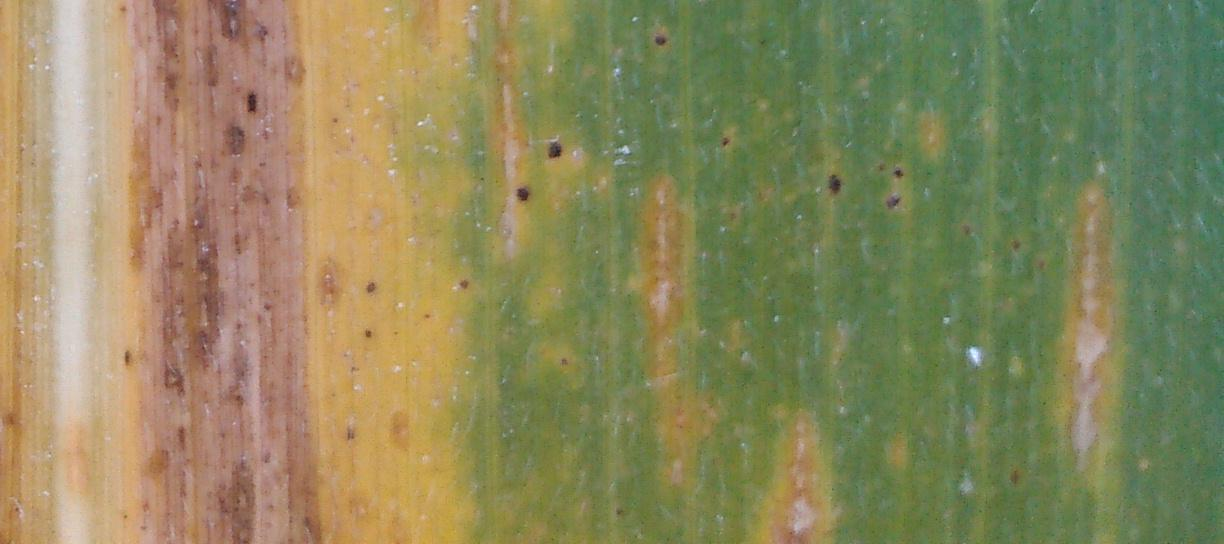tarspot: (823, 167, 843, 197), (243, 88, 260, 119), (881, 193, 903, 214), (545, 139, 564, 162), (361, 278, 381, 299), (338, 423, 359, 442), (119, 346, 138, 367), (512, 184, 531, 201), (652, 31, 671, 47), (555, 353, 571, 370), (958, 219, 973, 237), (455, 274, 473, 289), (361, 324, 377, 340), (1006, 466, 1020, 484), (611, 504, 627, 518), (718, 132, 731, 149), (328, 113, 343, 127), (116, 1, 130, 15), (891, 165, 903, 181), (1009, 236, 1021, 249), (420, 309, 431, 322)
